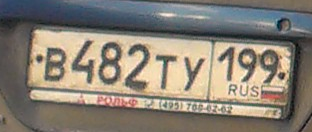character: (126, 44, 152, 93), (72, 39, 97, 87), (98, 39, 123, 87), (43, 45, 68, 85), (182, 54, 206, 93), (154, 54, 179, 90), (236, 46, 258, 85), (259, 47, 279, 86), (217, 45, 236, 82)
